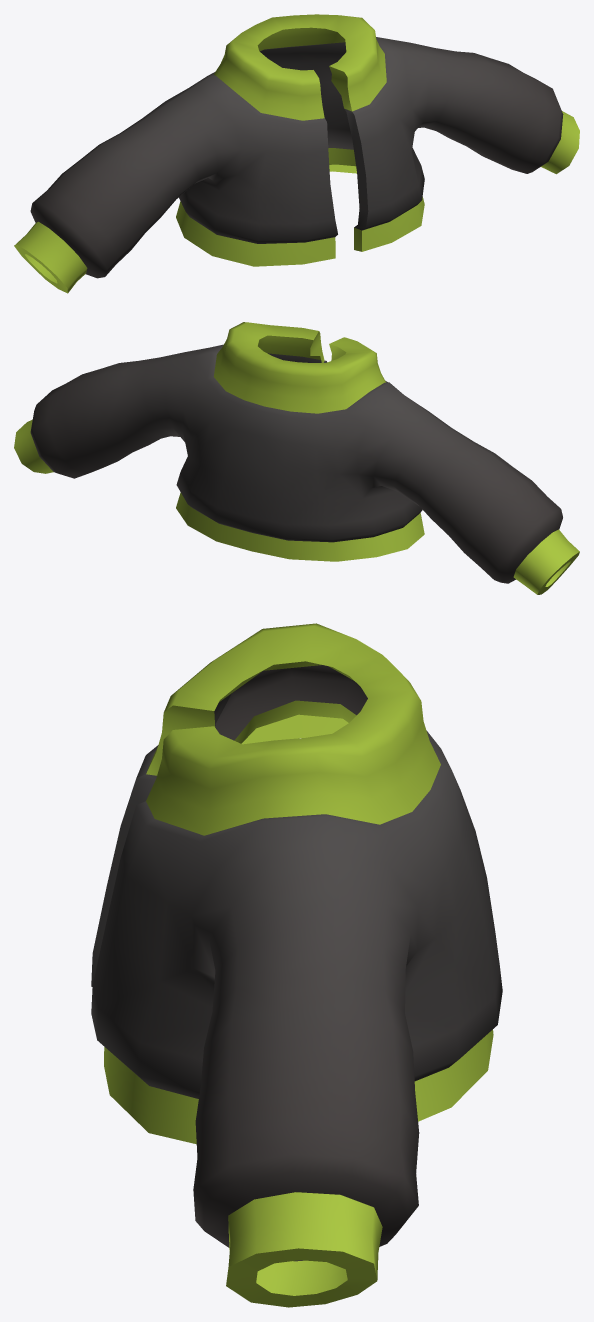
The model's file is Outwear_24.glb.
3 views of the same model, one above another, from view 1: azimuth 30°, elevation 25°; view 2: azimuth 150°, elevation 25°; view 3: azimuth 270°, elevation 25° (orthographic). The views are drawn at different scales.
Parts seen in each view (by area): view 1: Outwear_24; view 2: Outwear_24; view 3: Outwear_24.
Boxes of the visible parts, <box> form: Outwear_24: <box>14,14,579,293</box>; Outwear_24: <box>14,322,579,594</box>; Outwear_24: <box>91,623,502,1307</box>.
Size of the model in its own units: 0.6465 by 0.2162 by 0.2106.
Materials: 1 (1 with a texture image).
